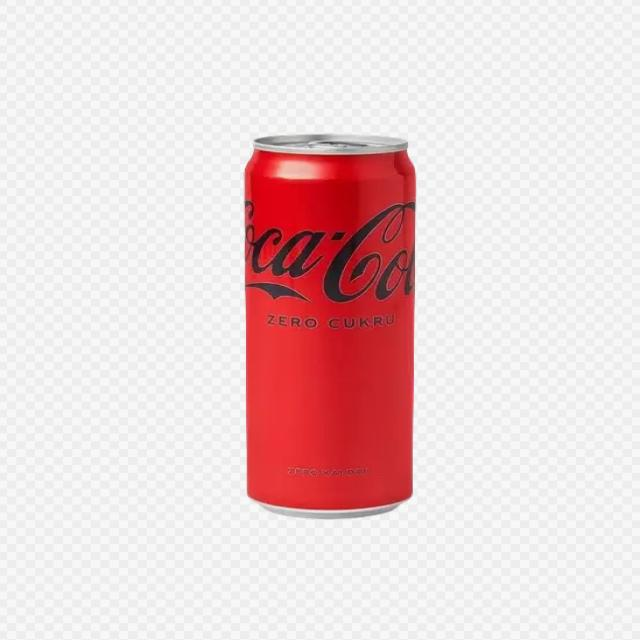supermarket-product: (230, 177, 449, 345)
